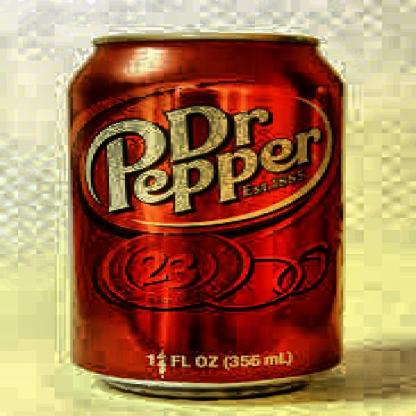Can: (58, 25, 362, 407)
